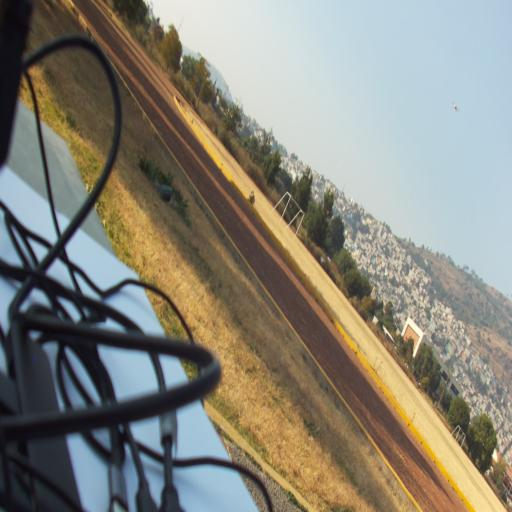drones: (451, 99, 461, 115)
